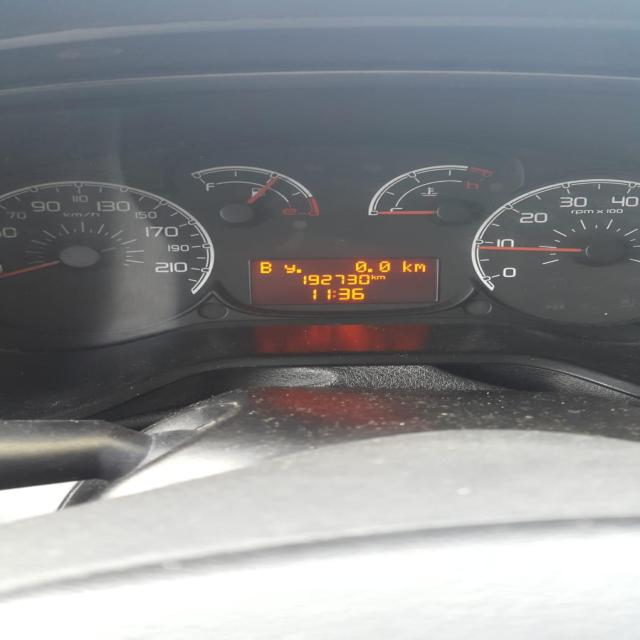odometer: (248, 258, 438, 302)
